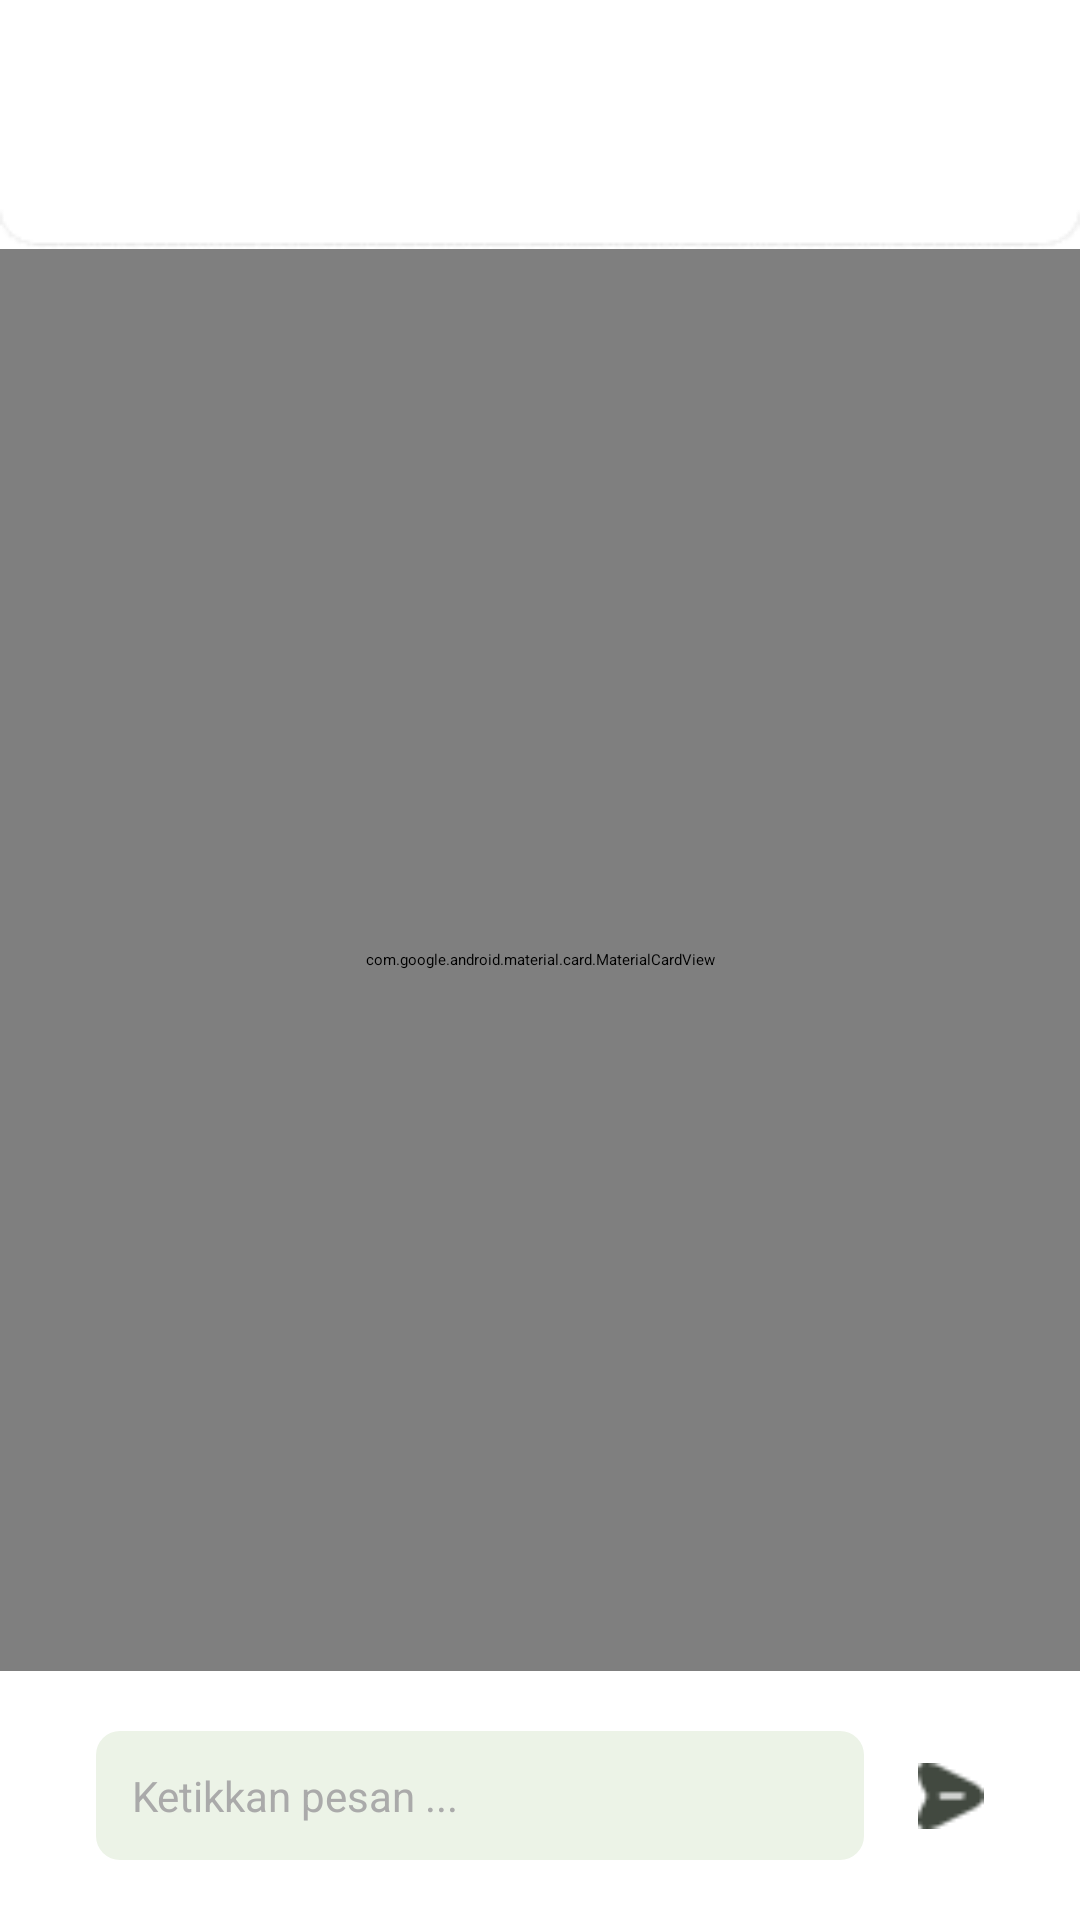

Where to tap for icons on this 1080x1920 app screen, as point (x, y):
send message: point (951, 1796)
